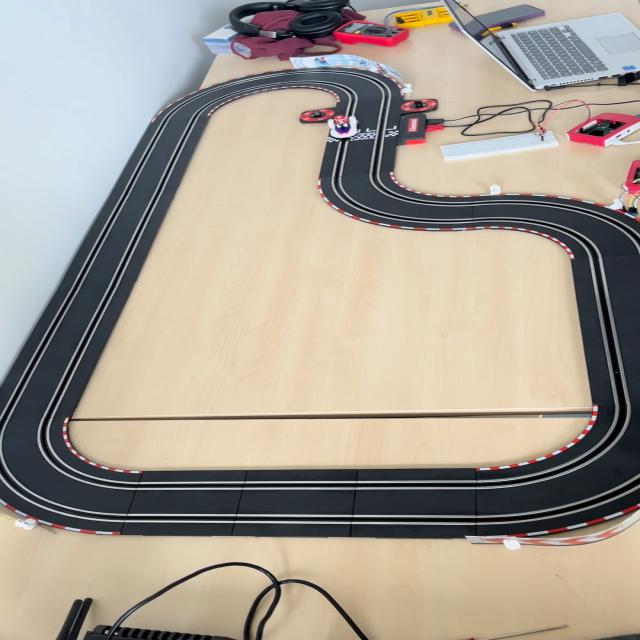mario: (324, 114, 363, 140)
